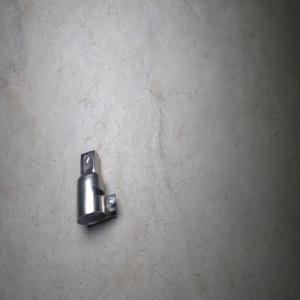MetalPart: (75, 149, 117, 225)
